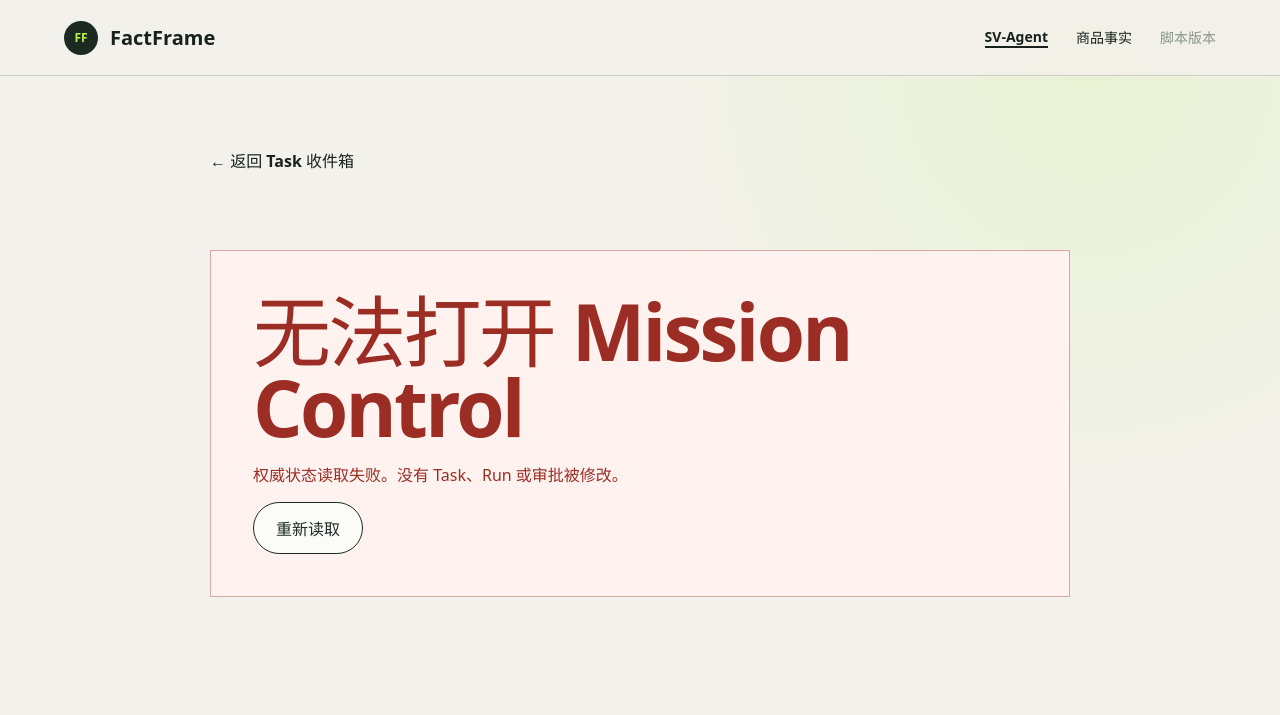
Test: SV-Agent Mission Control › shows a read error and retries the same GET without mutating state
Expected: the text "权威状态读取失败。没有 Task、Run 或审批被修改。" is shown, 253,464 -> 628,486
Step 1. Click the button "重新读取" → (308, 528), box 253,502 -> 363,554
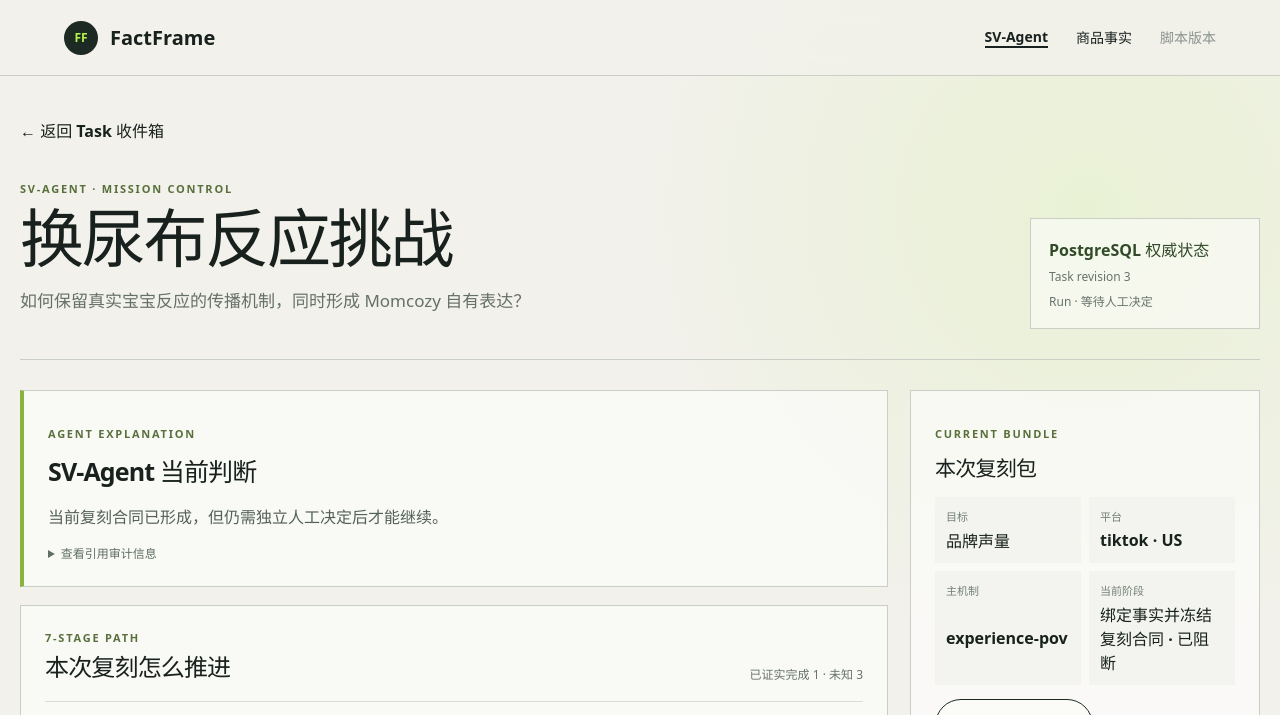
Expected: the heading "换尿布反应挑战" is shown, 20,194 -> 452,281
